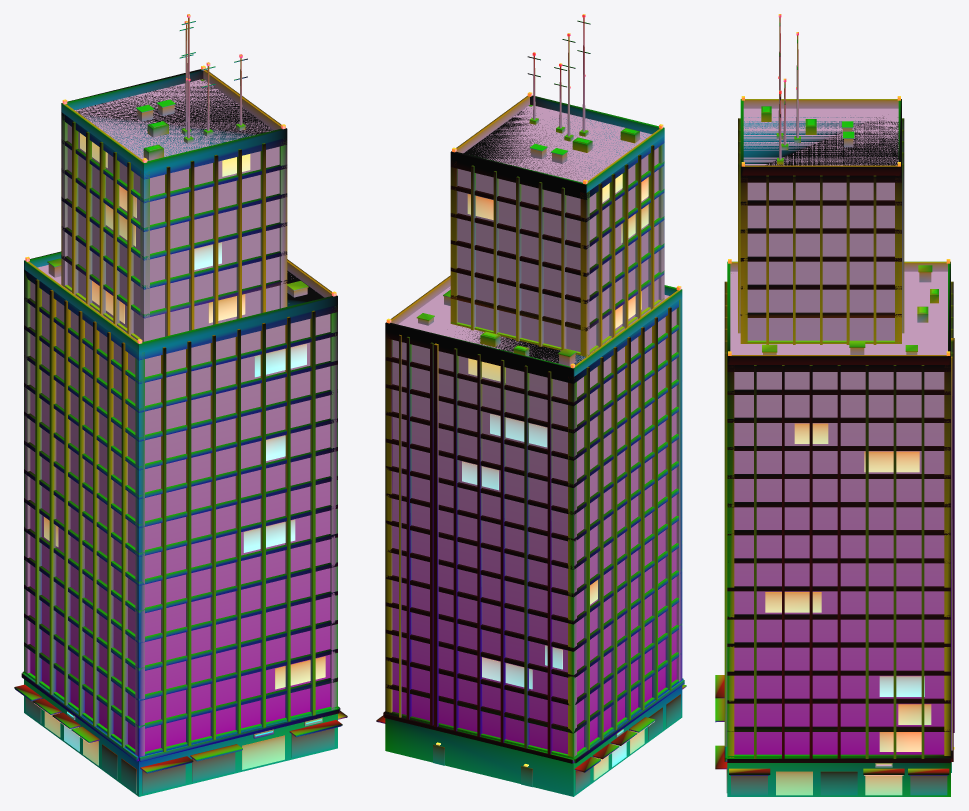
Rendered from Tower_Mast.fbx.
3 views of the same model, side by side, from view 1: azimuth 30°, elevation 25°; view 2: azimuth 150°, elevation 25°; view 3: azimuth 270°, elevation 25° (orthographic). The views are drawn at different scales.
Parts seen in each view (by area): view 1: Tower_Mast_LOD0; view 2: Tower_Mast_LOD0; view 3: Tower_Mast_LOD0.
Boxes of the visible parts, x1=… form: Tower_Mast_LOD0: x1=14, y1=14, x2=347, y2=796; Tower_Mast_LOD0: x1=376, y1=14, x2=686, y2=796; Tower_Mast_LOD0: x1=715, y1=14, x2=954, y2=796.
Size of what is drawn, in the model's own units: 28.8 by 92.87 by 27.83.
